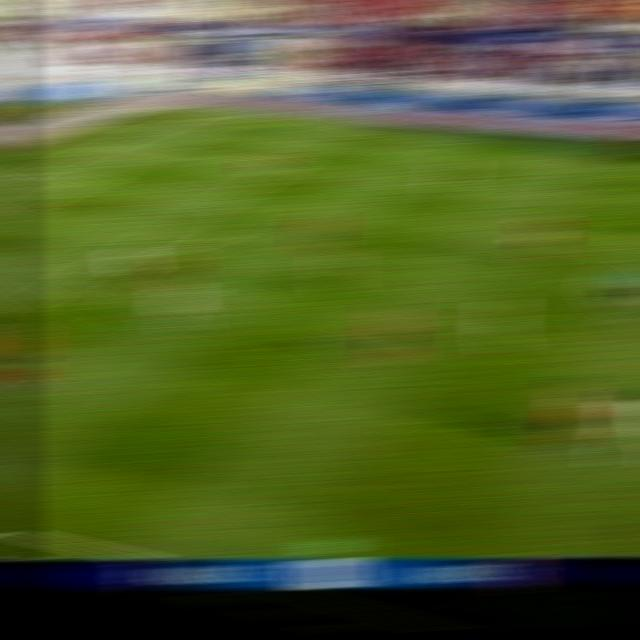bigarea_top_inner: (273, 158, 303, 169)
bigarea_top_outter: (100, 139, 128, 147)
corner: (175, 113, 205, 118)
smallarea_top_inner: (78, 175, 108, 183)
smallarea_top_outter: (19, 166, 49, 173)
top_arc_area_intersection: (207, 194, 240, 204)
